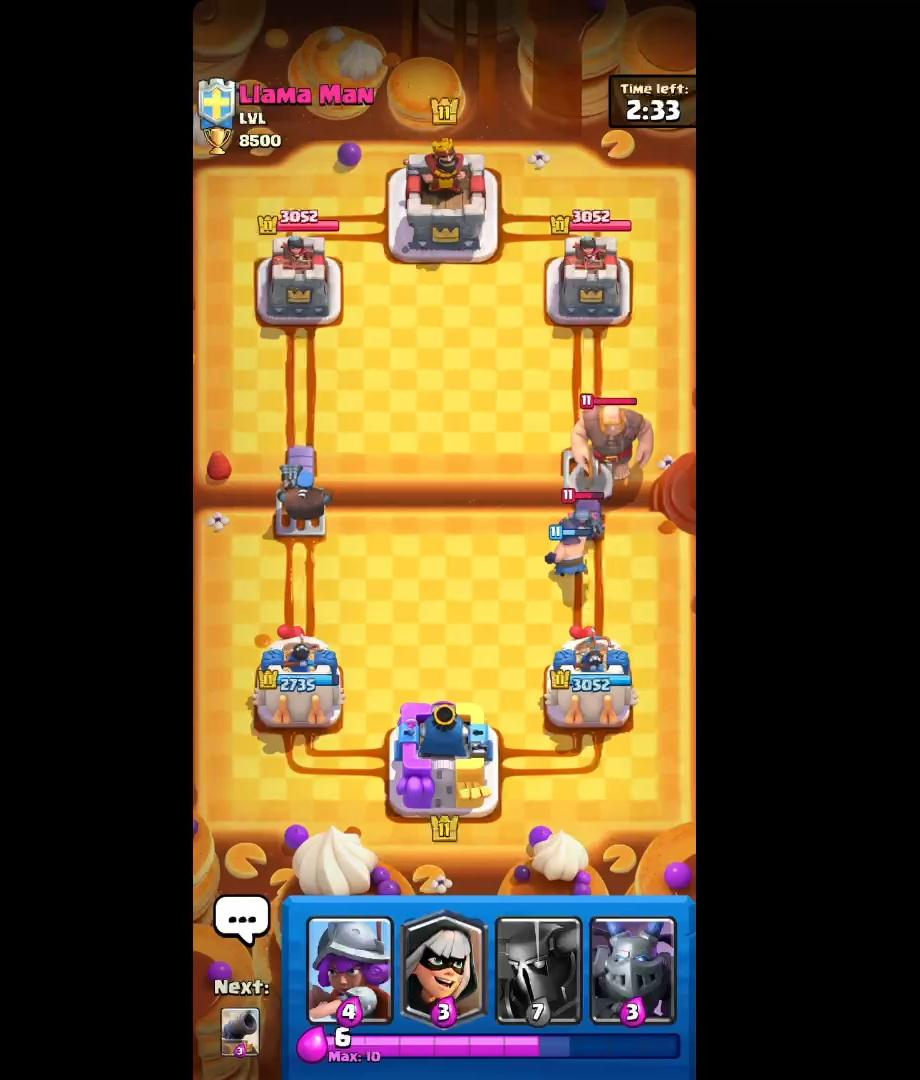Giant: (570, 389, 657, 485)
Mini Pekka: (551, 485, 611, 542)
